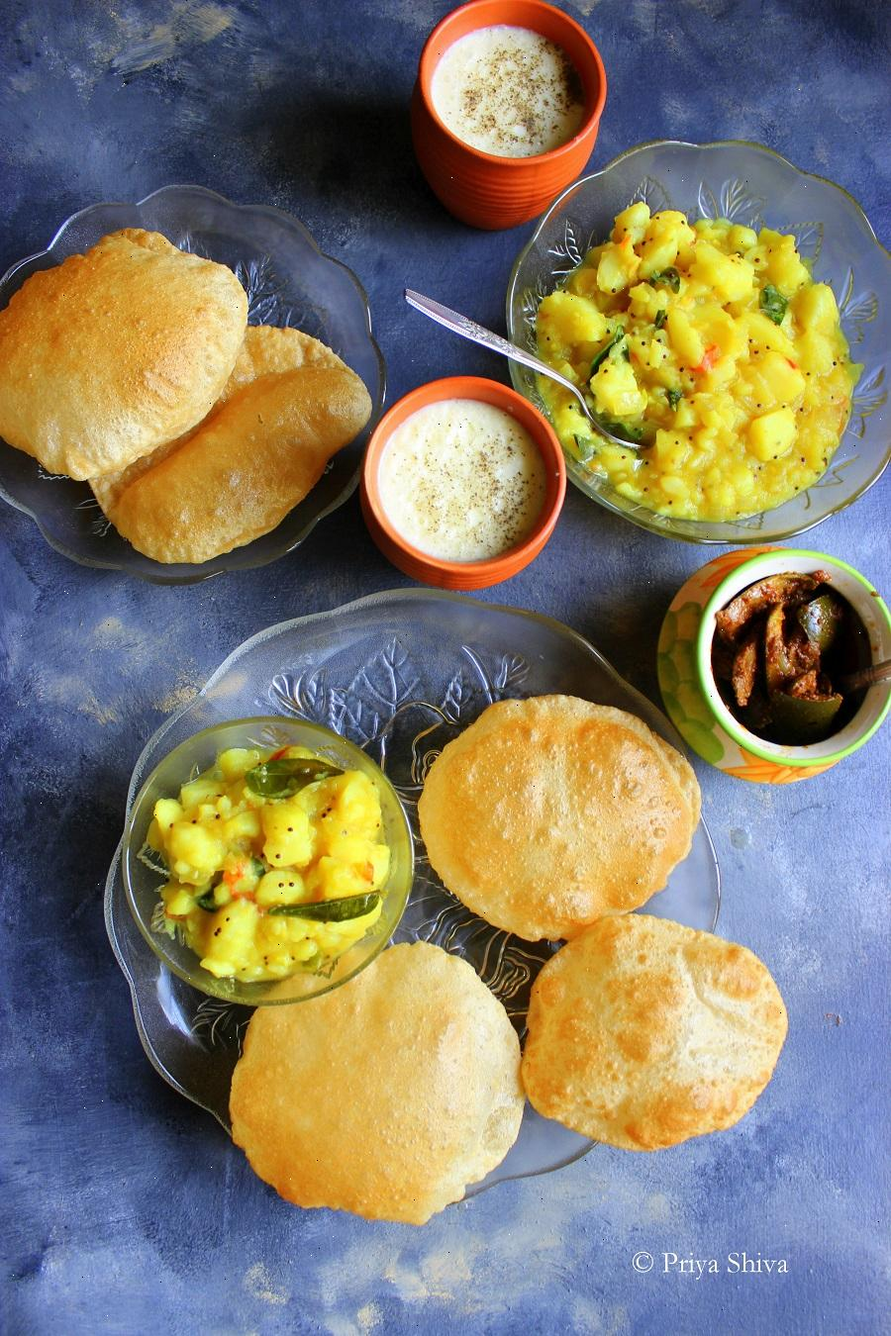puri: (426, 739, 739, 1161), (23, 254, 353, 587)
